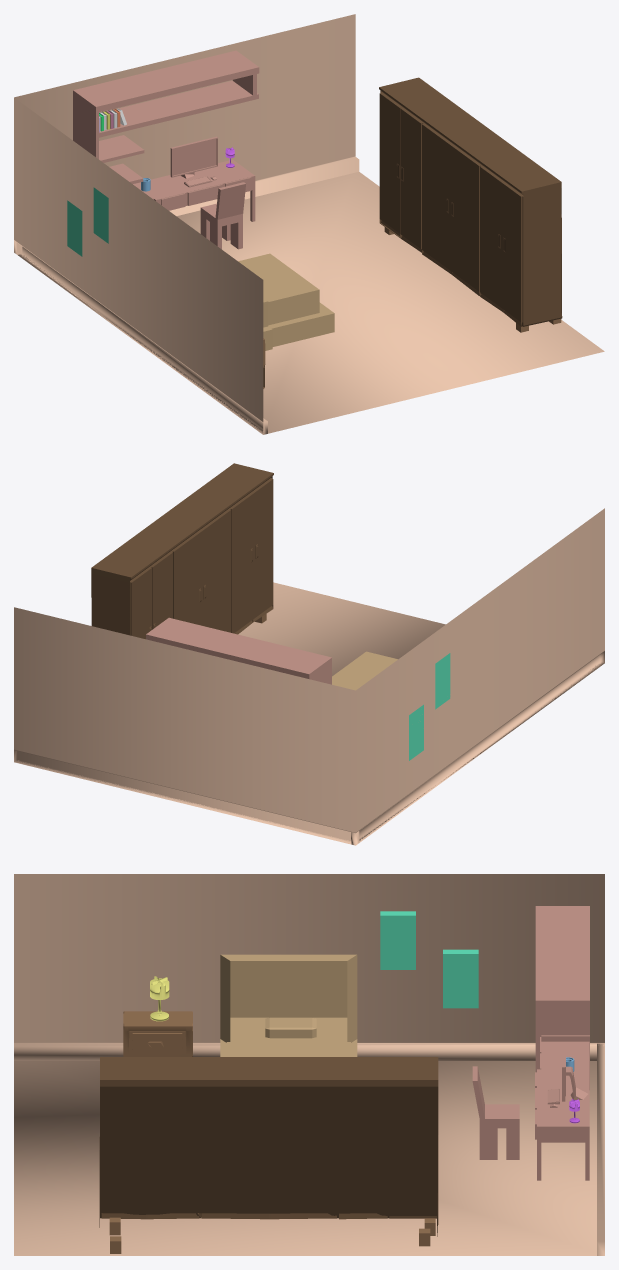
File: comodoQuarto.fbx
3 renders of one model, top to bottom at view 1: azimuth 30°, elevation 25°; view 2: azimuth 150°, elevation 25°; view 3: azimuth 270°, elevation 25°, orthographic. The views are drawn at different scales.
Parts seen in each view (by area): view 1: PAREDES.001, Guarda Roupa, MESA, CAMA, Quadro2, Quatro; view 2: PAREDES.001, Guarda Roupa, MESA, CAMA, Quadro2, Quatro; view 3: PAREDES.001, Guarda Roupa, MESA, CAMA, Móvel Lateral, Quatro, Quadro2, ABAJUR.
Boxes of the visible parts, left/top/right/bottom form: PAREDES.001: left=14, top=14, right=604, bottom=434; Guarda Roupa: left=379, top=77, right=562, bottom=326; MESA: left=73, top=50, right=259, bottom=249; CAMA: left=238, top=253, right=334, bottom=350; Quadro2: left=93, top=187, right=108, bottom=243; Quatro: left=67, top=200, right=82, bottom=256; PAREDES.001: left=14, top=508, right=604, bottom=845; Guarda Roupa: left=91, top=463, right=273, bottom=639; MESA: left=146, top=617, right=331, bottom=684; CAMA: left=332, top=651, right=397, bottom=690; Quadro2: left=435, top=653, right=450, bottom=709; Quatro: left=409, top=704, right=423, bottom=760; PAREDES.001: left=14, top=874, right=604, bottom=1255; Guarda Roupa: left=99, top=1057, right=438, bottom=1236; MESA: left=472, top=906, right=589, bottom=1180; CAMA: left=220, top=954, right=357, bottom=1056; Móvel Lateral: left=109, top=1011, right=435, bottom=1253; Quatro: left=443, top=949, right=478, bottom=1008; Quadro2: left=380, top=911, right=415, bottom=969; ABAJUR: left=150, top=976, right=169, bottom=1021.
Size of the model in its own units: 1773 by 769 by 2239.
